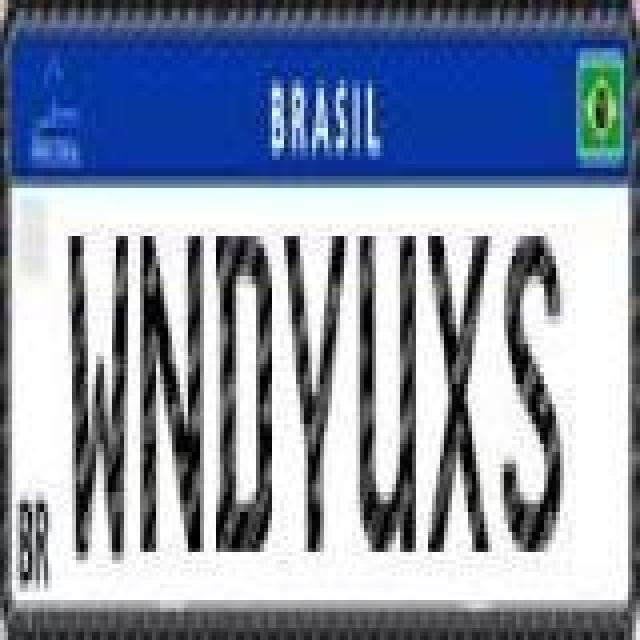D: (212, 224, 276, 560)
N: (138, 230, 206, 554)
S: (500, 230, 564, 554)
U: (358, 224, 418, 560)
W: (66, 232, 126, 568)
X: (424, 230, 488, 554)
Y: (282, 230, 350, 554)
